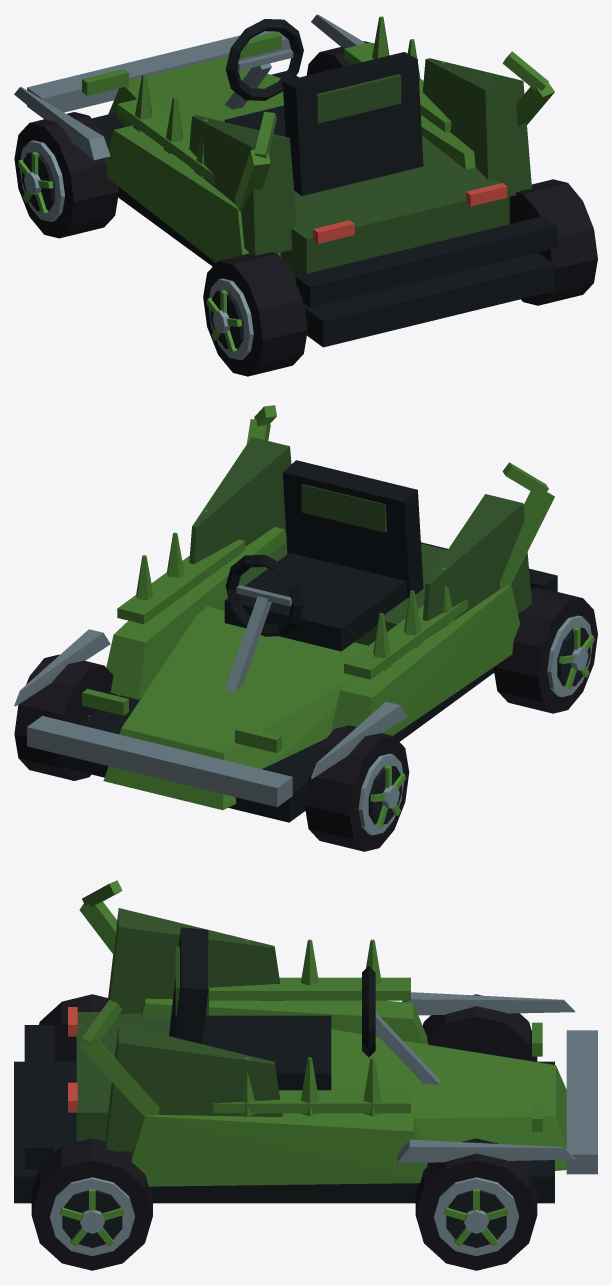
The model's file is kart.glb.
The picture shows the model from 3 angles, top to bottom: view 1: azimuth 30°, elevation 25°; view 2: azimuth 150°, elevation 25°; view 3: azimuth 270°, elevation 25°; orthographic projection.
Parts seen in each view (by area): view 1: chassis, wheel-rear-left, wheel-front-left, wheel-rear-right, wheel-front-right; view 2: chassis, wheel-front-left, wheel-rear-left, wheel-front-right; view 3: chassis, wheel-rear-right, wheel-front-right, wheel-front-left, wheel-rear-left.
Boxes of the visible parts, x1,y1,x2,y2 form: chassis: [14, 14, 557, 347]; wheel-rear-left: [203, 252, 307, 376]; wheel-front-left: [14, 112, 118, 238]; wheel-rear-right: [509, 179, 597, 305]; wheel-front-right: [306, 41, 374, 75]; chassis: [14, 405, 557, 822]; wheel-front-left: [304, 725, 409, 851]; wheel-rear-left: [493, 587, 597, 713]; wheel-front-right: [14, 654, 117, 780]; chassis: [14, 880, 597, 1203]; wheel-rear-right: [31, 1138, 152, 1270]; wheel-front-right: [415, 1138, 537, 1270]; wheel-front-left: [422, 994, 537, 1061]; wheel-rear-left: [39, 994, 107, 1061].
Size of the model in its own units: 2.18 by 1.38 by 2.98.
